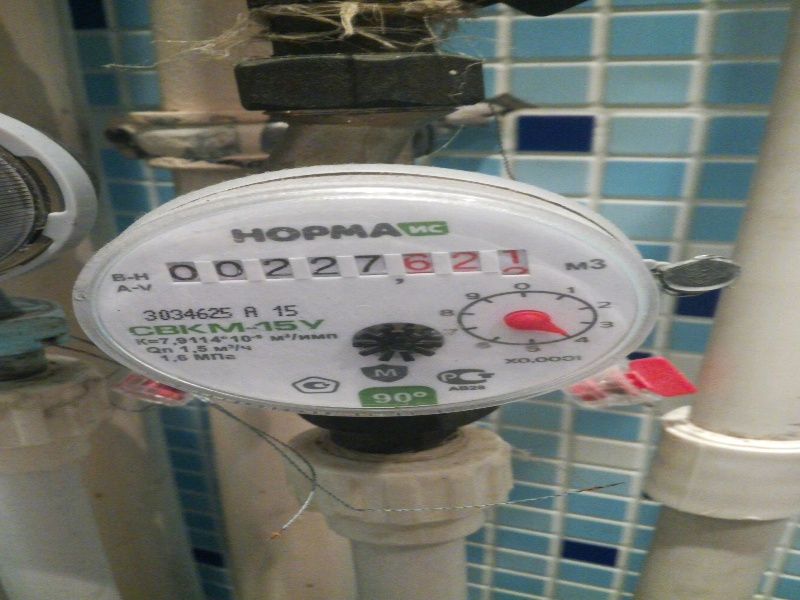meter: (148, 243, 536, 290)
